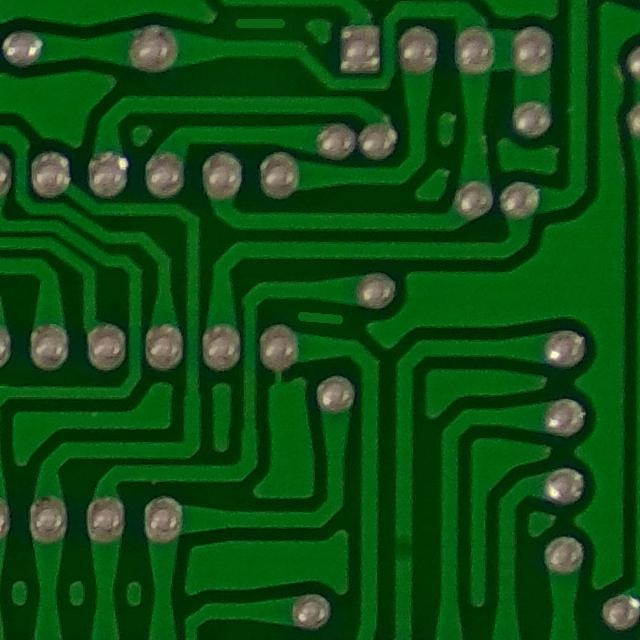spurious_copper: (290, 303, 349, 338)
